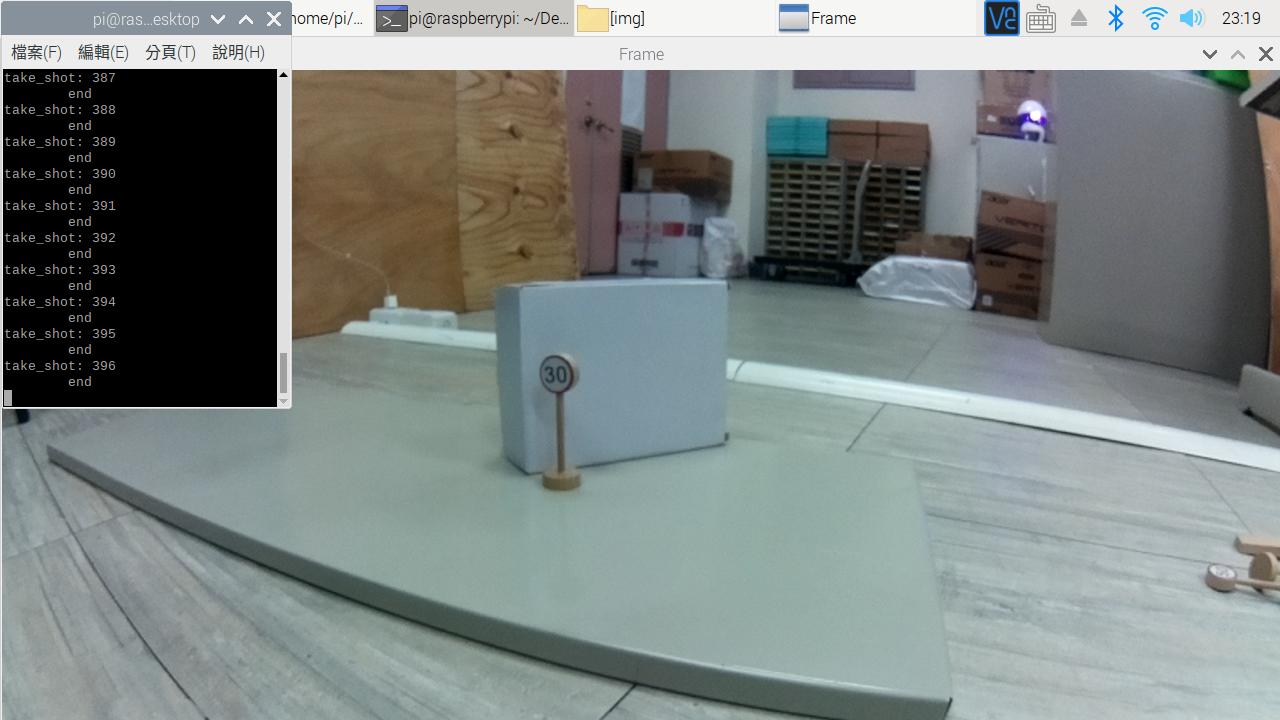Speed30: (531, 348, 594, 416)
